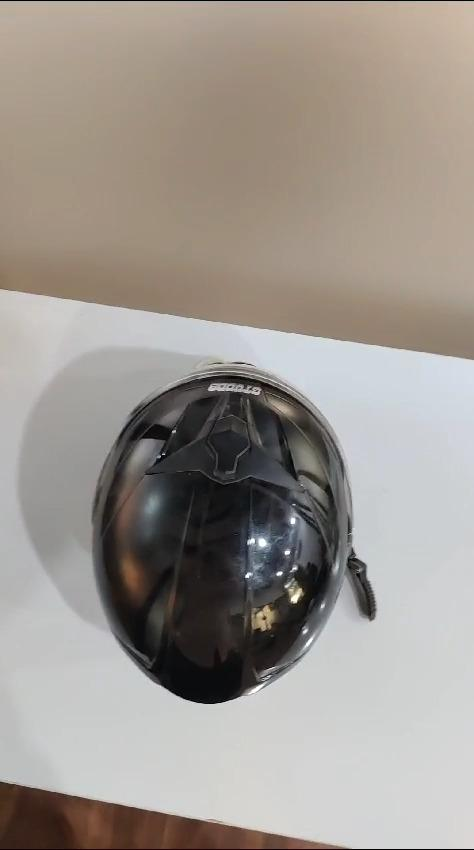Helmet: (98, 362, 367, 723)
